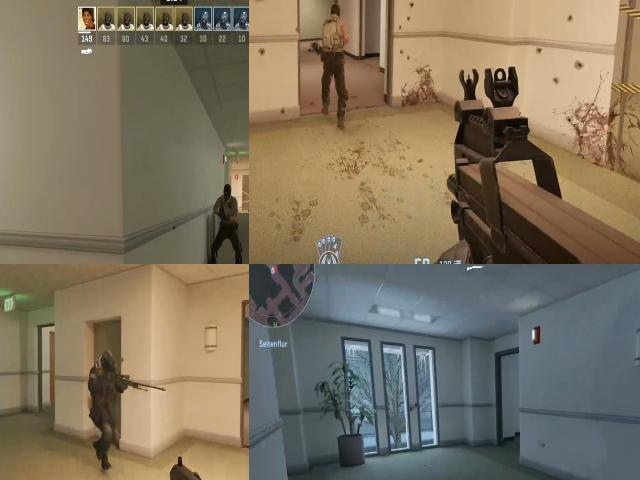CT: (88, 346, 126, 446)
CT-Head: (98, 346, 119, 376)
T: (316, 4, 352, 68), (216, 182, 238, 235)
T-Head: (321, 0, 348, 26), (220, 182, 237, 203)
